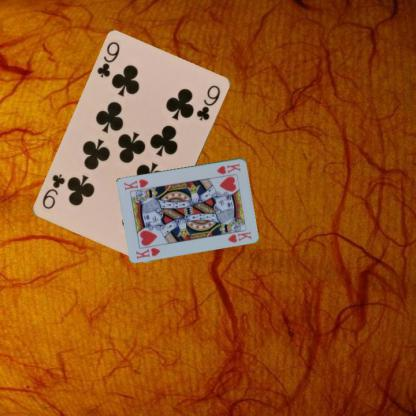9c: (95, 39, 122, 80)
Kh: (133, 245, 162, 260), (214, 161, 242, 175)
